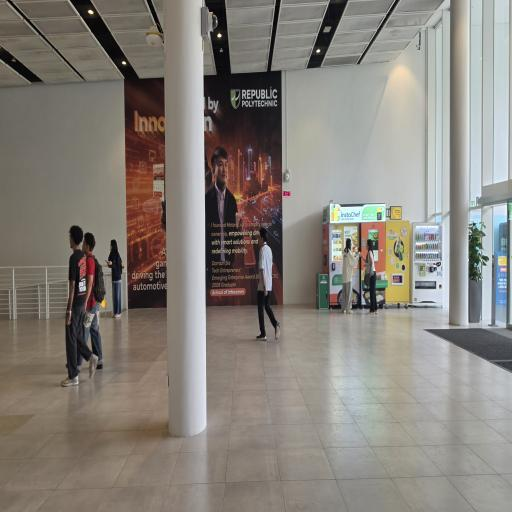person_left: (65, 216, 93, 396), (252, 219, 286, 349), (82, 226, 108, 366), (106, 230, 124, 320)
